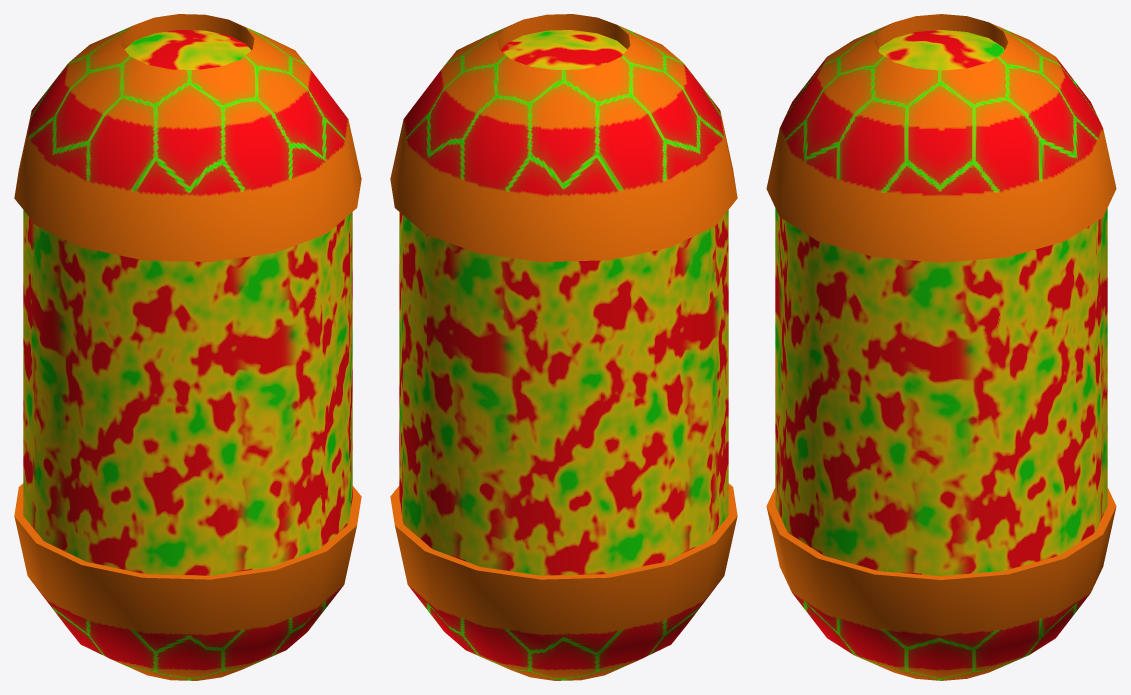
The model's file is explosive.fbx.
3 renders of one model, left to right at view 1: azimuth 30°, elevation 25°; view 2: azimuth 150°, elevation 25°; view 3: azimuth 270°, elevation 25°, orthographic.
Parts seen in each view (by area): view 1: Sphere; view 2: Sphere; view 3: Sphere.
Boxes of the visible parts, <box> form: Sphere: <box>14,14,361,680</box>; Sphere: <box>390,14,737,680</box>; Sphere: <box>766,14,1116,680</box>.
Size of the model in its own units: 2 by 3.85 by 2.
